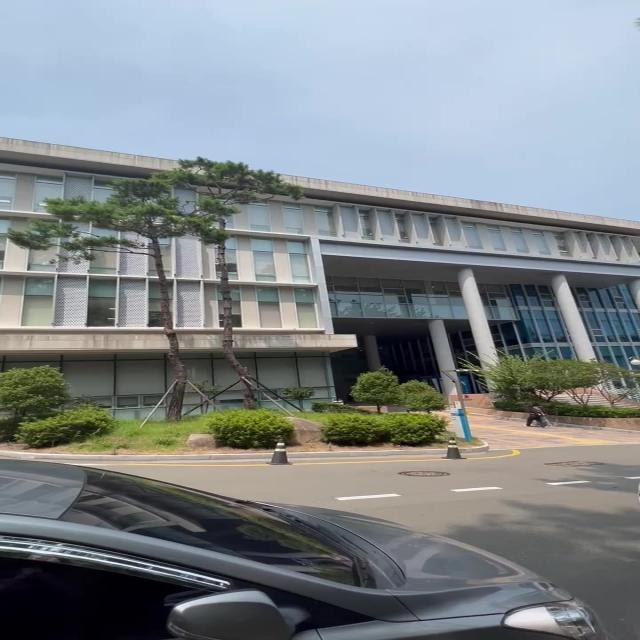building: (263, 183, 640, 372)
